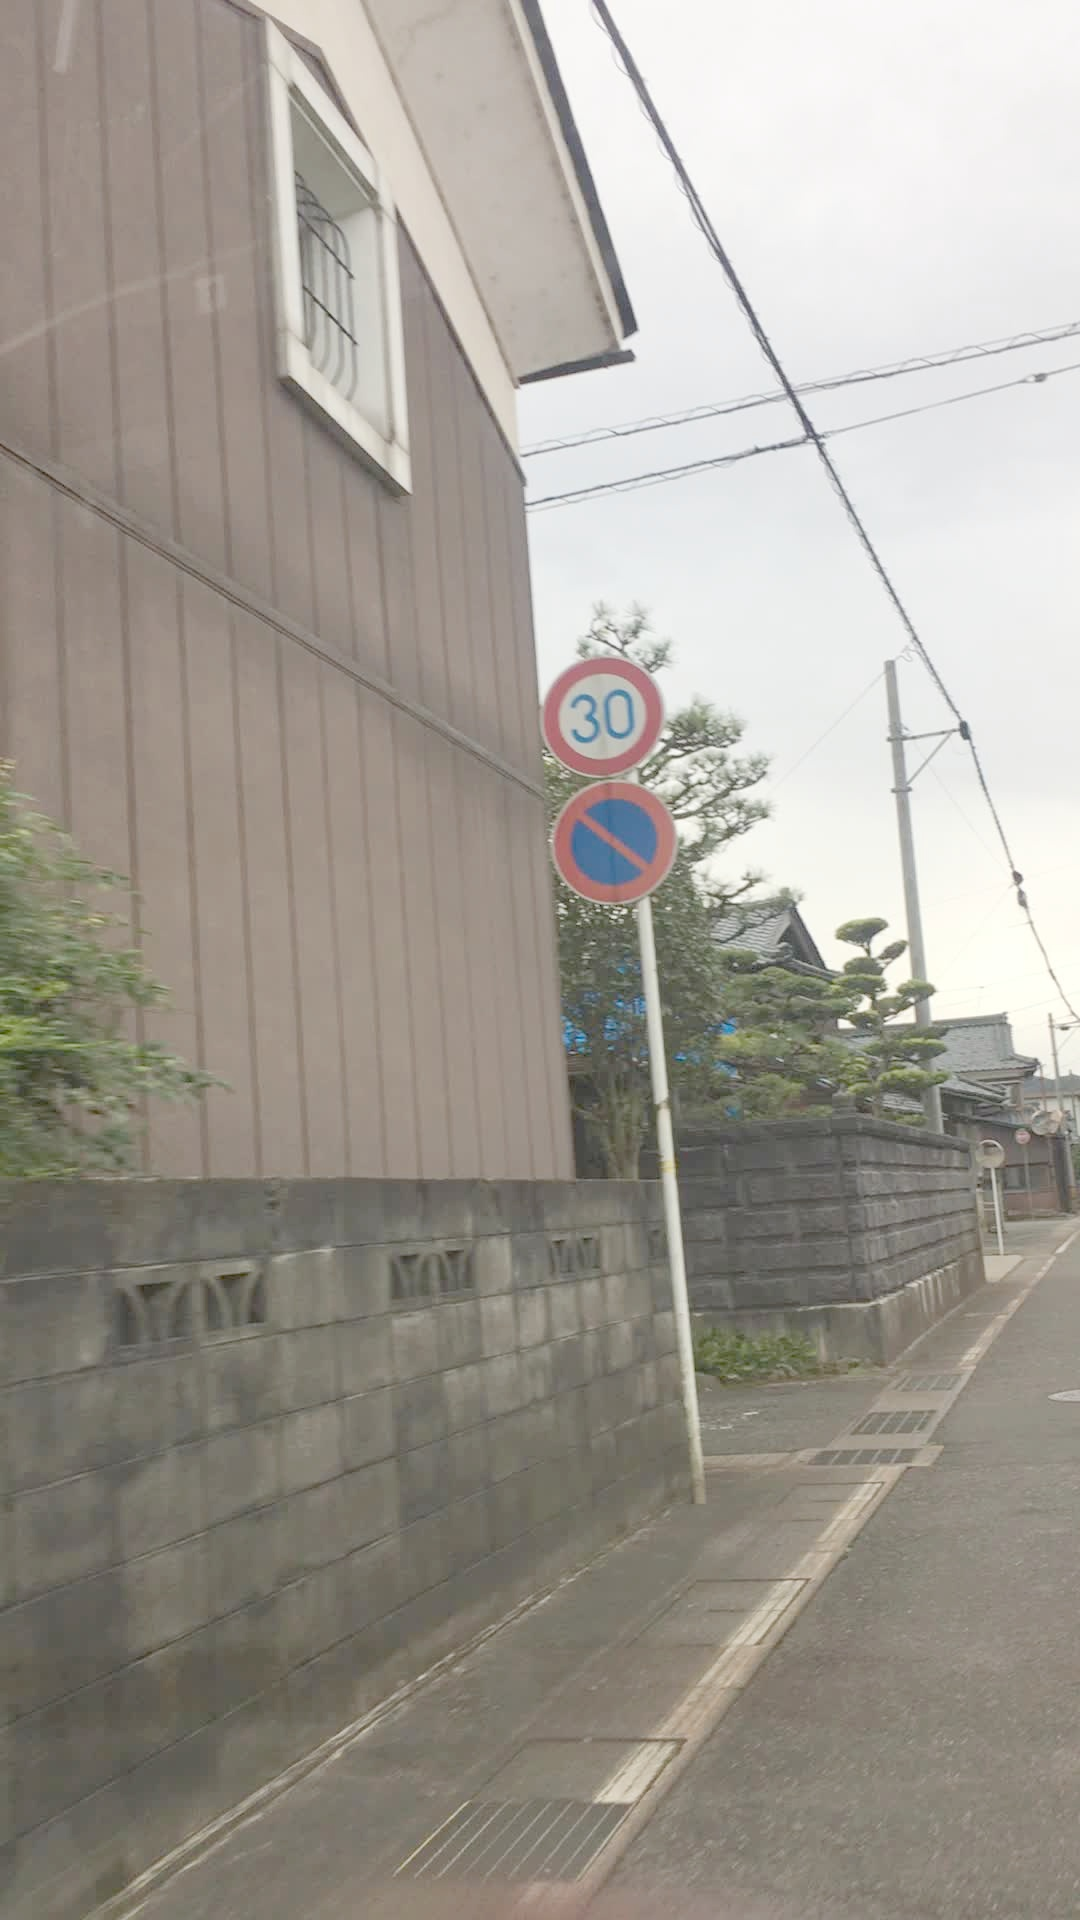Prohibition_sign: (542, 786, 684, 905)
Speed_sign: (531, 654, 676, 782)
